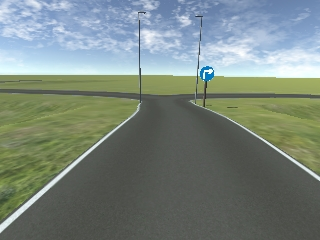right: (198, 67, 214, 80)
